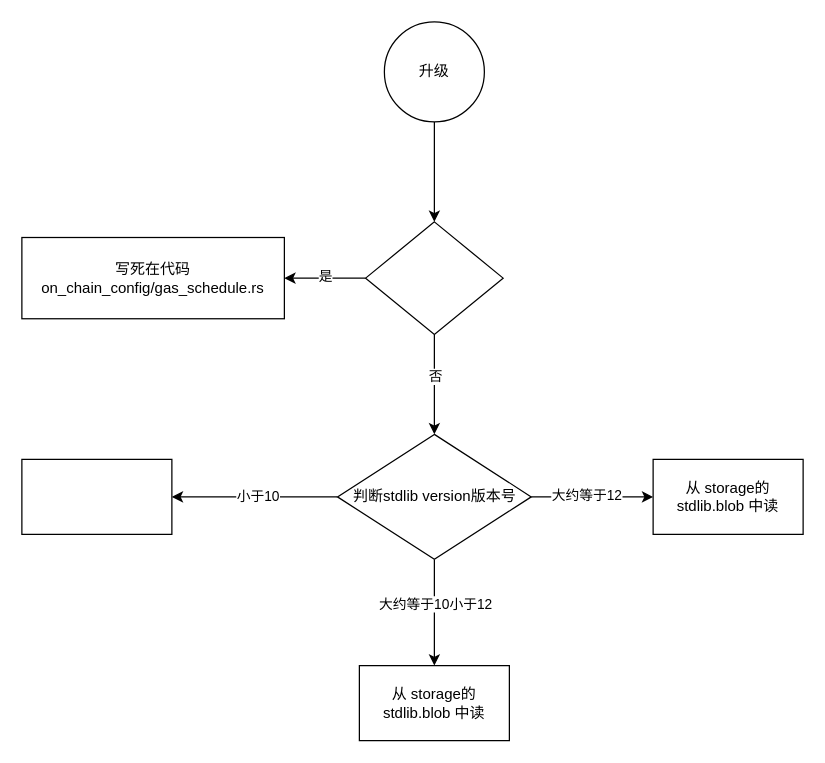
This 825x763 diagram has some shape labels left out. Here are the shapes that lost their labels. From the top down, the centre of each, then its label:
At (433,277): "是否gensis 块".
At (96,496): "从 storage 中读出".
